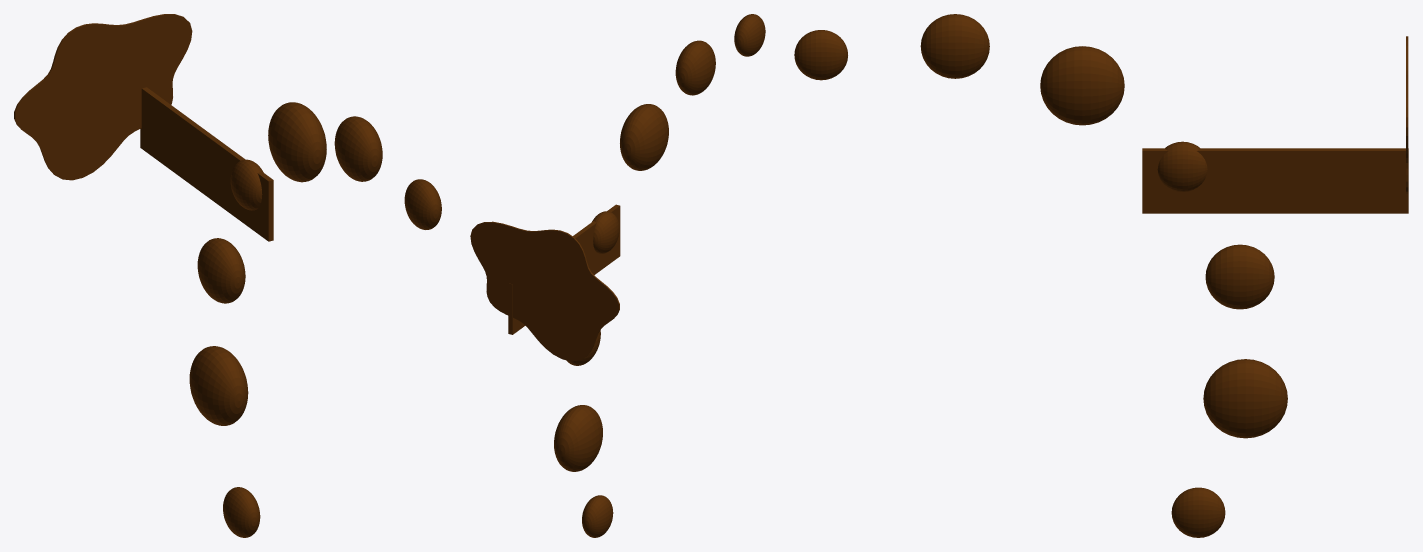
The model's file is fault_grease_leak.obj.
The picture shows the model from 3 angles, left to right: view 1: azimuth 30°, elevation 25°; view 2: azimuth 150°, elevation 25°; view 3: azimuth 270°, elevation 25°; orthographic projection. The views are drawn at different scales.
Visible parts, largest first — view 1: fault_grease_leak; view 2: fault_grease_leak; view 3: fault_grease_leak.
Part boxes in pixels (x1,y1,x2,y2): fault_grease_leak: (14, 14, 441, 537); fault_grease_leak: (470, 14, 765, 537); fault_grease_leak: (794, 14, 1408, 537).
Bounding box in the file's own units: 0.2764 × 0.7495 × 0.7992.
